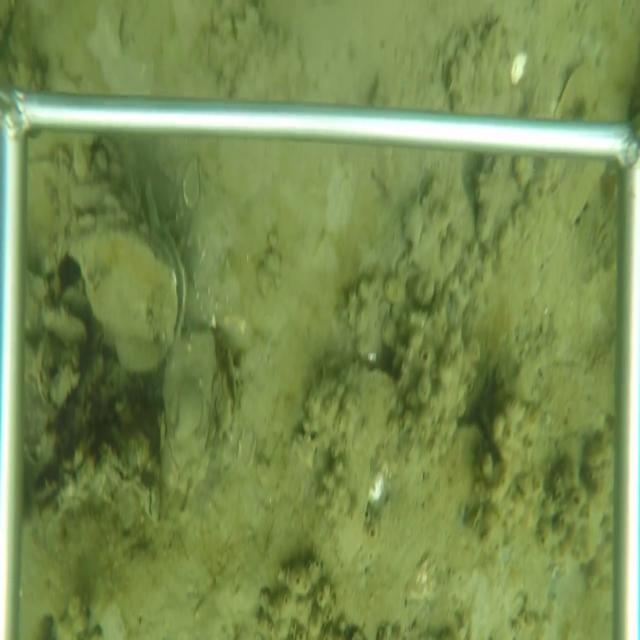Oyster-Closed: (160, 330, 220, 478), (227, 345, 243, 418), (35, 336, 51, 405)
Oyster-Indeterminate: (312, 360, 402, 584), (445, 13, 525, 117), (552, 60, 603, 121)
Oyster-Open: (62, 206, 191, 376)
